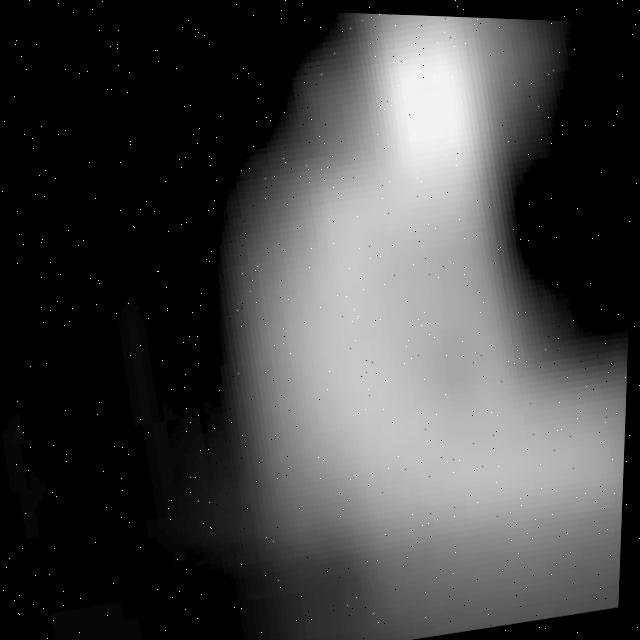person: (182, 7, 640, 619)
